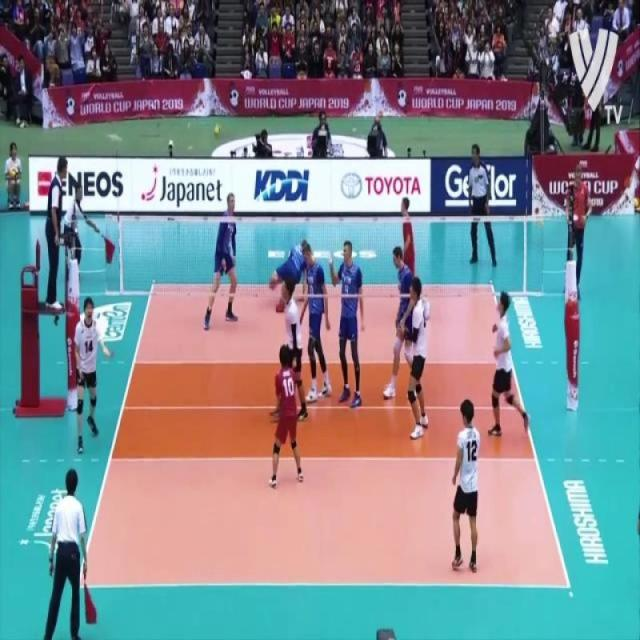volleyball: (214, 126, 222, 138)
